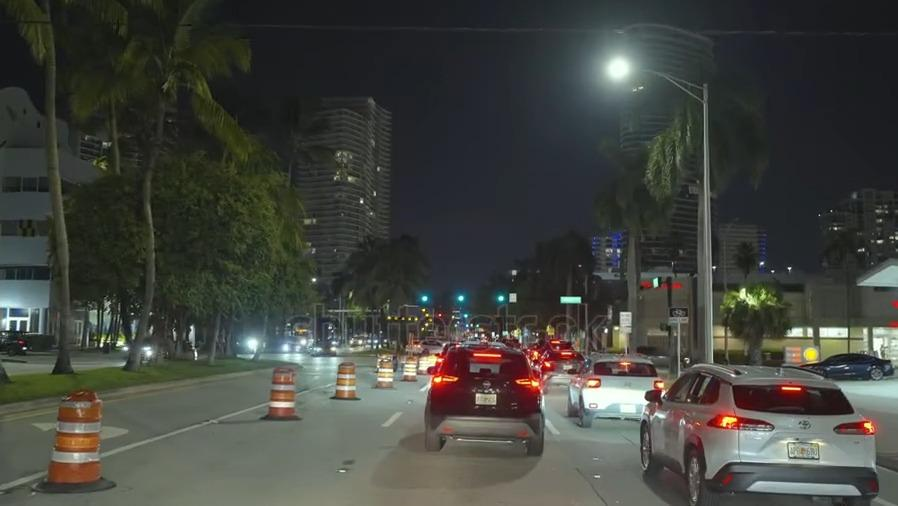arrow traffic sign: (378, 303, 438, 335)
car: (641, 362, 878, 492), (419, 349, 547, 453), (566, 353, 657, 416), (801, 347, 894, 382), (118, 335, 173, 363), (535, 346, 575, 379), (0, 328, 39, 356), (309, 339, 337, 355)
cone: (49, 384, 105, 484), (265, 364, 296, 418), (333, 359, 359, 401), (375, 351, 393, 389), (401, 351, 415, 381)
traffic light: (451, 290, 470, 309), (492, 289, 511, 308), (417, 291, 431, 307)
wheel: (681, 443, 708, 497), (634, 421, 656, 473)
